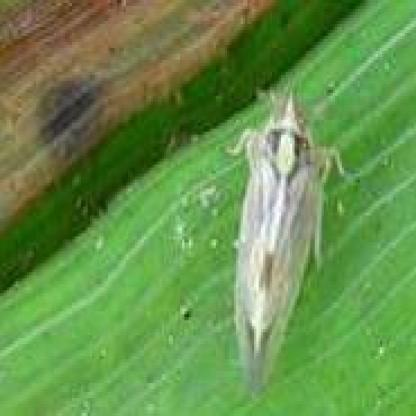brown-planthopper: (224, 88, 328, 392)
